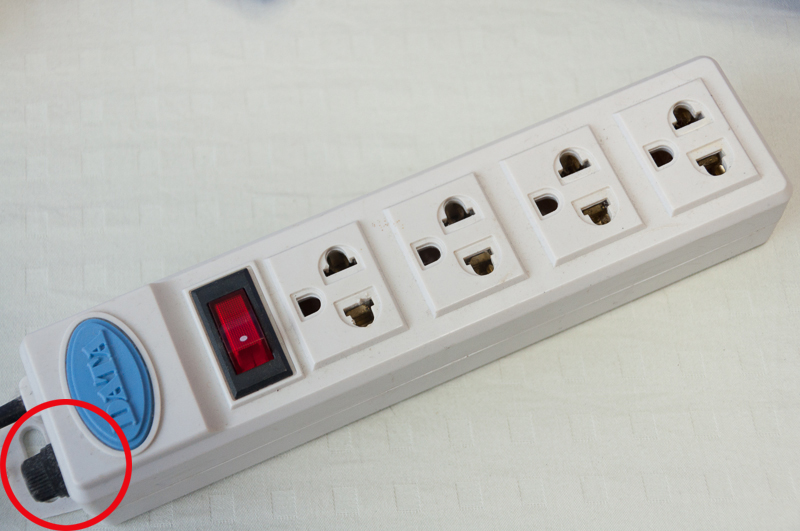Three_eye_plug: (1, 51, 793, 531)
